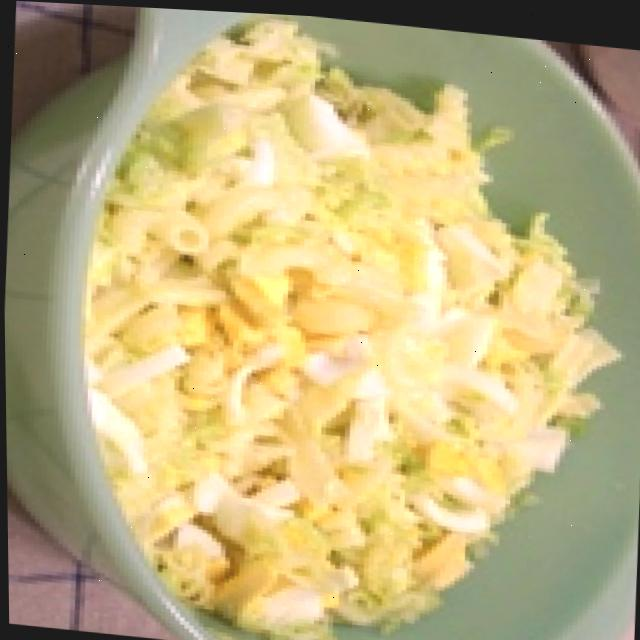蔬菜料理: (74, 3, 629, 640)
